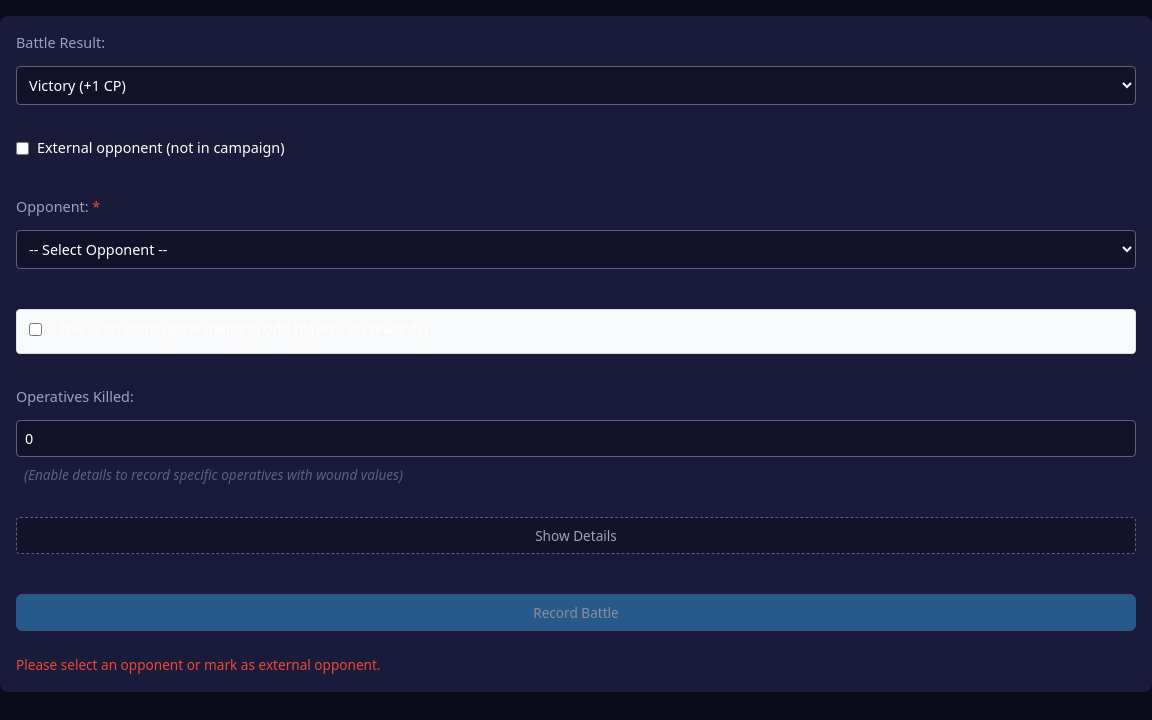
Test: BattleForm › Detailed Mode Toggle › should show "Hide Details" when in detailed mode
Click the button "Show Details" at (576, 536), box [16,517,1136,554]
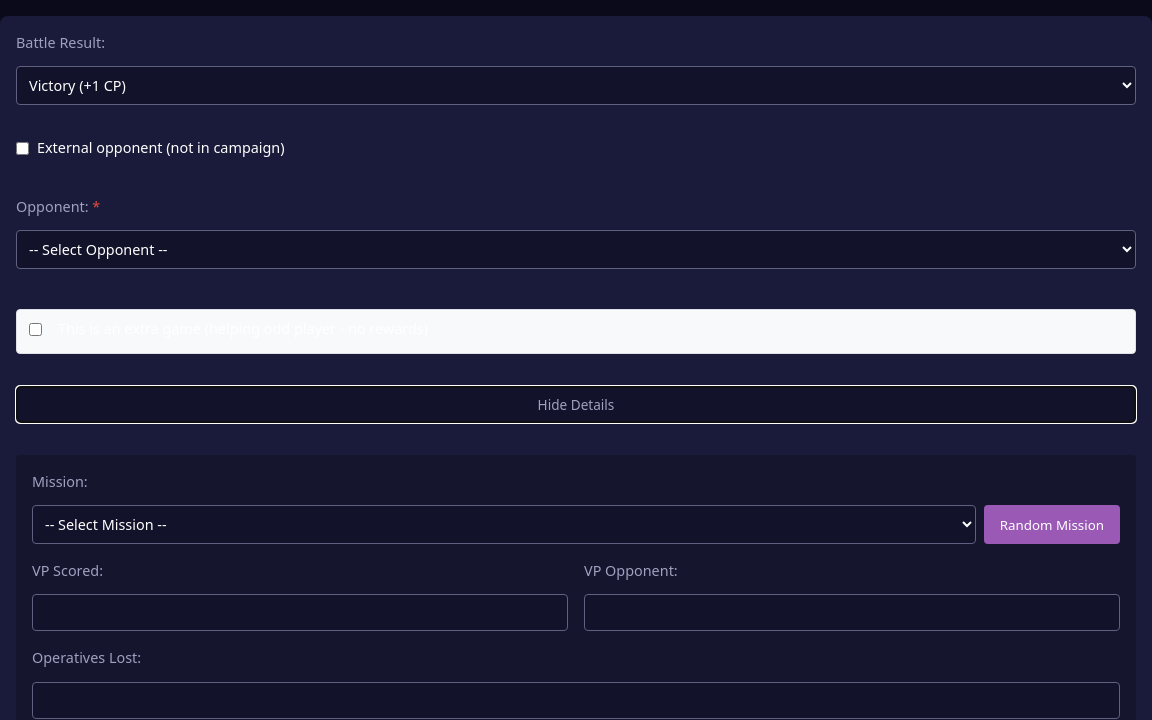
Now the button "Hide Details" is shown, box [16,386,1136,423]
